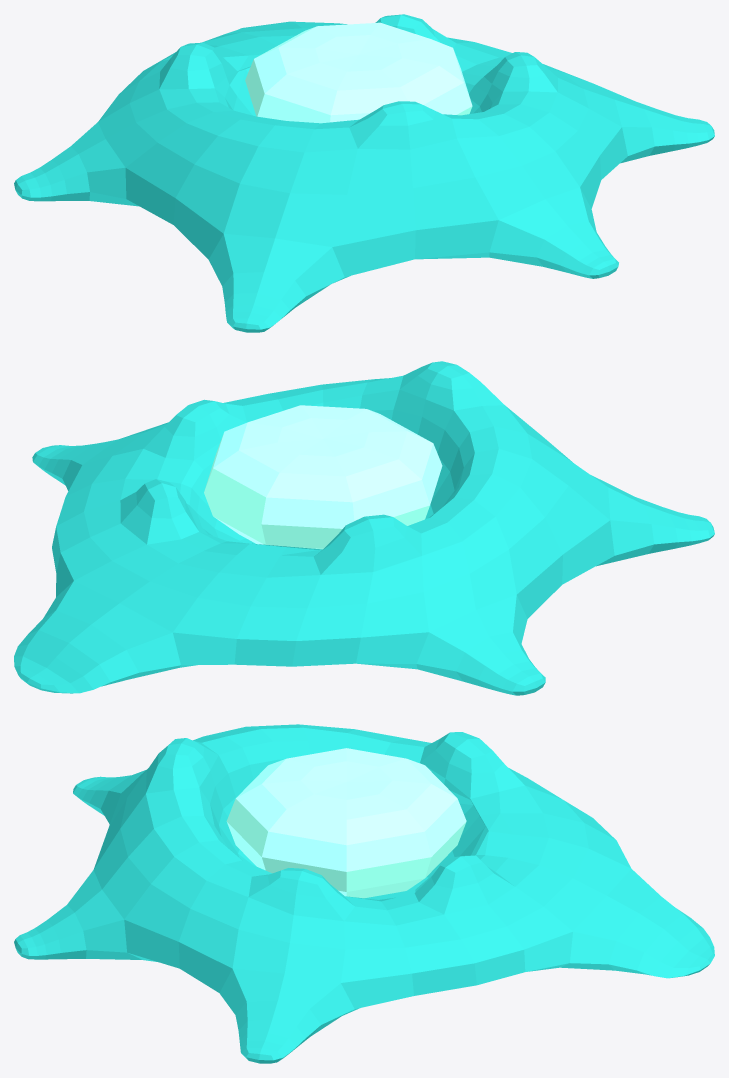
File: Cellula.fbx
The picture shows the model from 3 angles, top to bottom: view 1: azimuth 30°, elevation 25°; view 2: azimuth 150°, elevation 25°; view 3: azimuth 270°, elevation 25°; orthographic projection. The views are drawn at different scales.
Visible parts, largest first — view 1: Sphere.001; view 2: Sphere.001; view 3: Sphere.001.
Part boxes in pixels (bbox=[...]): Sphere.001: bbox=[14, 14, 714, 332]; Sphere.001: bbox=[14, 361, 714, 695]; Sphere.001: bbox=[14, 724, 714, 1063].
Size of the model in its own units: 556 by 137 by 564.
